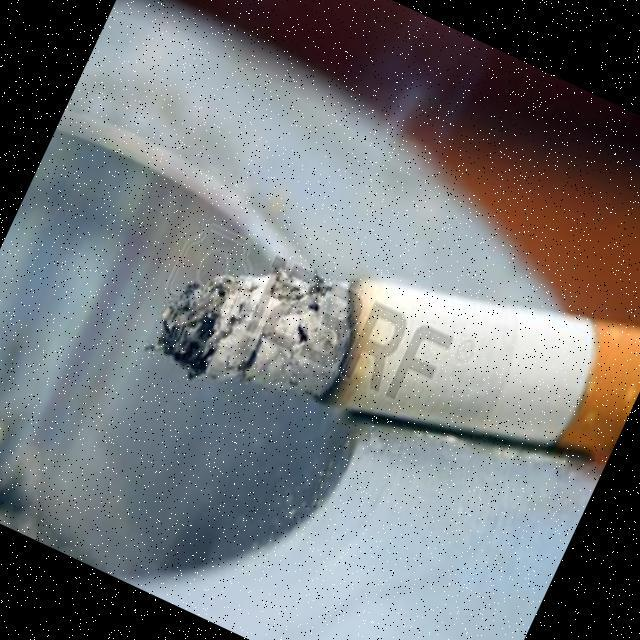cigarette: (135, 128, 640, 573)
